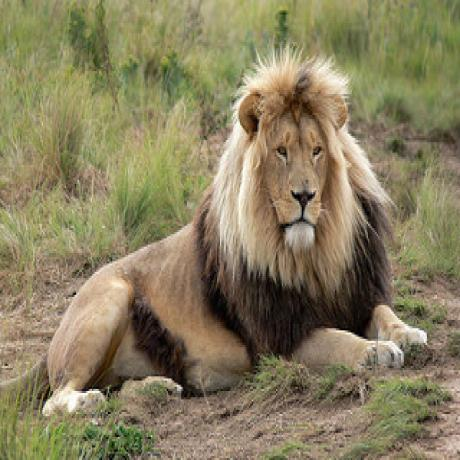Lion: (45, 54, 436, 424)
